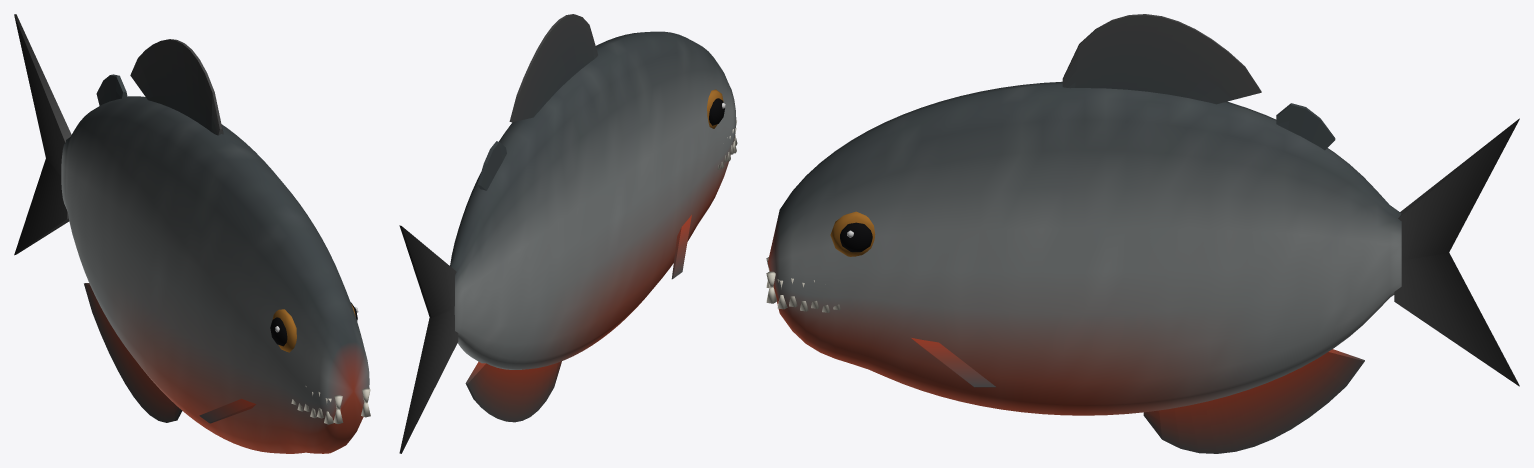
File: MegapiranhaParanensis.fbx
3 renders of one model, left to right at view 1: azimuth 30°, elevation 25°; view 2: azimuth 150°, elevation 25°; view 3: azimuth 270°, elevation 25°, orthographic. The views are drawn at different scales.
Parts seen in each view (by area): view 1: MegapiranhaParanensis; view 2: MegapiranhaParanensis; view 3: MegapiranhaParanensis.
Boxes of the visible parts, <box> form: MegapiranhaParanensis: <box>14,14,370,453</box>; MegapiranhaParanensis: <box>399,14,737,453</box>; MegapiranhaParanensis: <box>766,14,1519,453</box>.
Size of the model in its own units: 0.1805 by 0.6568 by 1.02.
